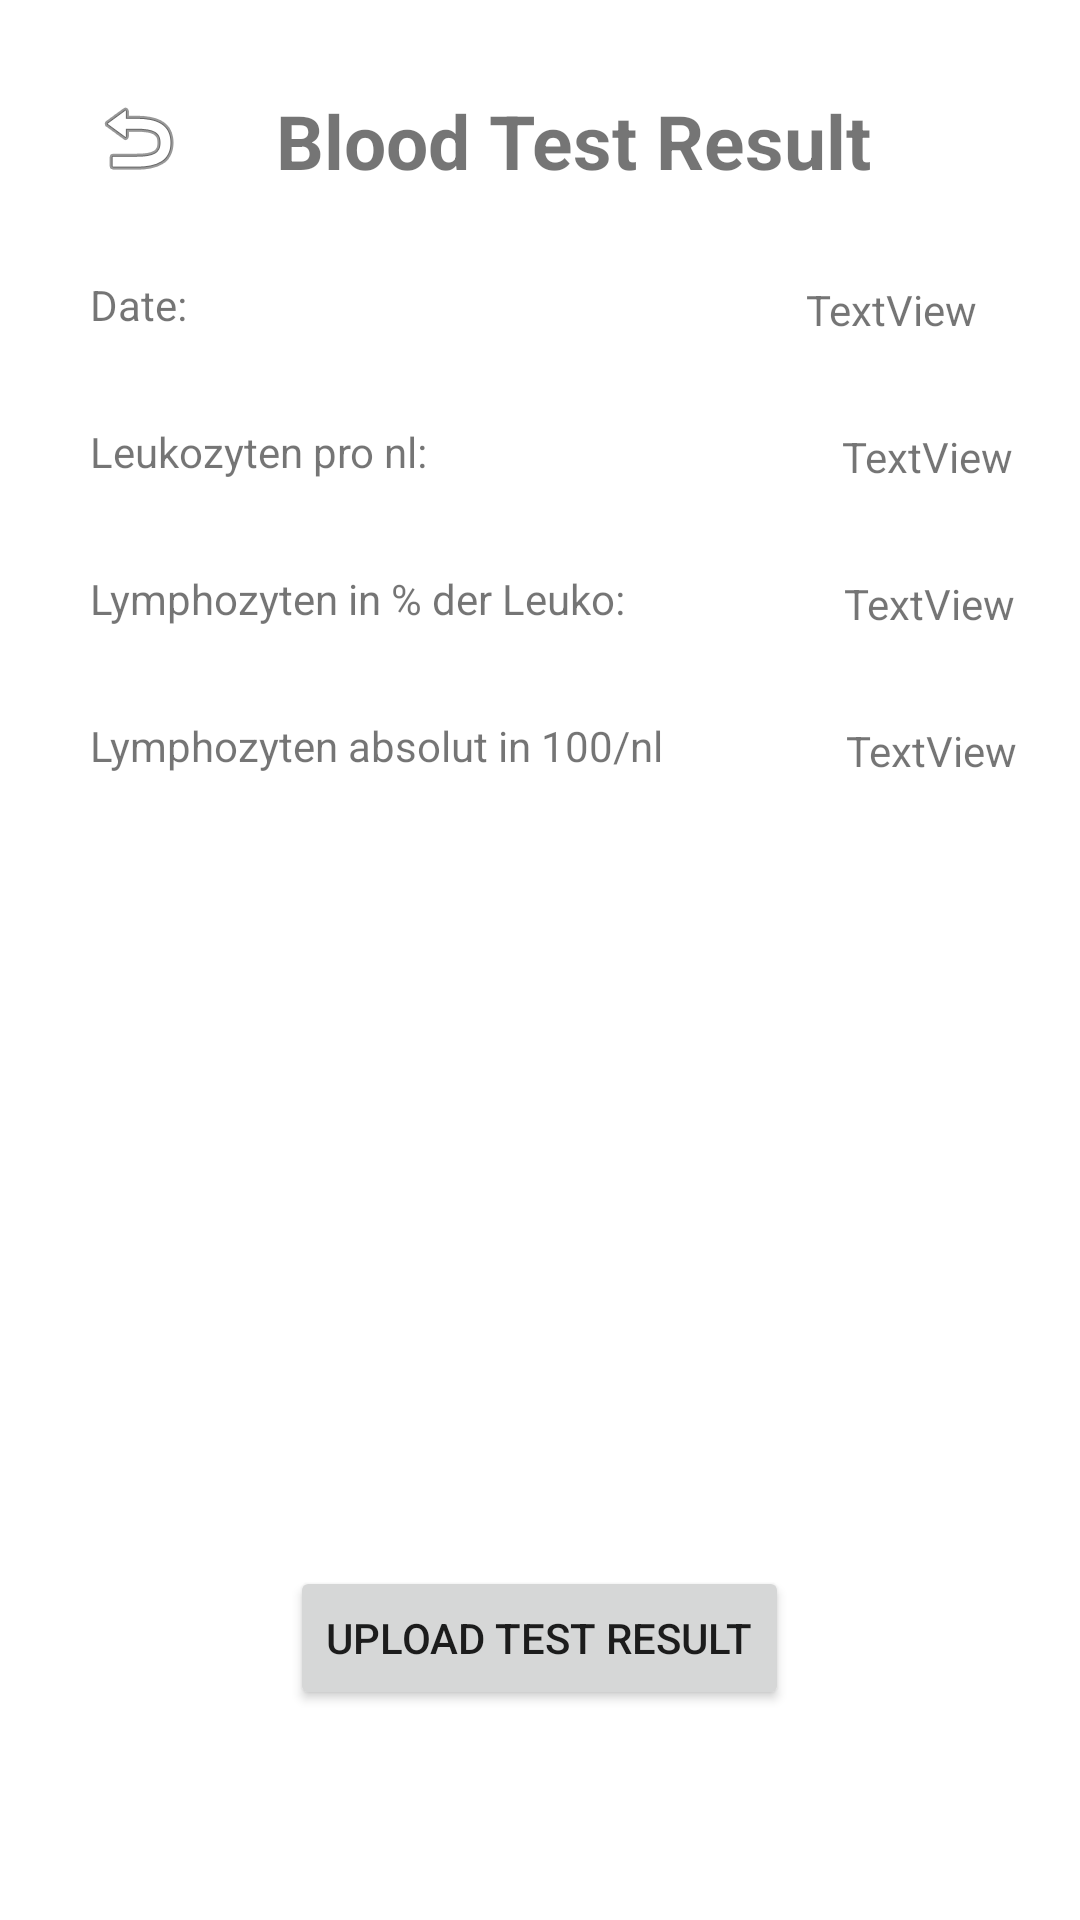

Screen size 1080px×1920px. Icon name, then its center in pixels as (x,y):
revert: (139,138)
